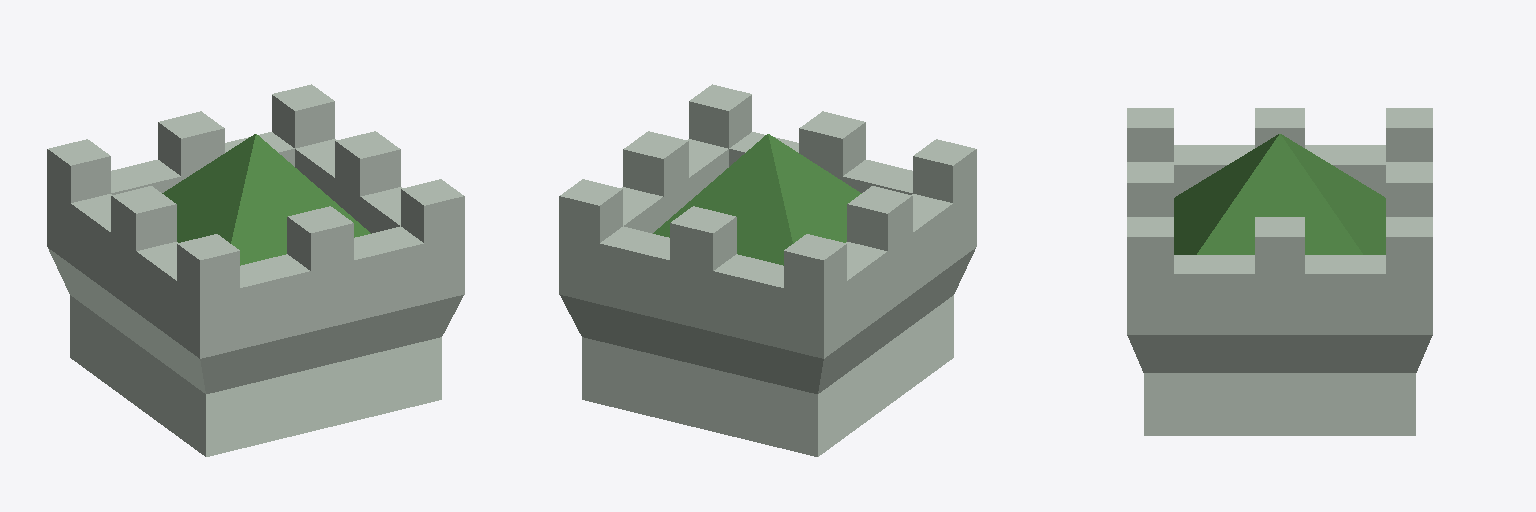
File: tile_028.obj
3 renders of one model, left to right at view 1: azimuth 30°, elevation 25°; view 2: azimuth 150°, elevation 25°; view 3: azimuth 270°, elevation 25°, orthographic.
Parts seen in each view (by area): view 1: tile_028, Group; view 2: tile_028, Group; view 3: tile_028, Group.
Part boxes in pixels (x1,y1,x2,y2): tile_028: (47, 84, 464, 456); Group: (162, 134, 370, 265); tile_028: (559, 84, 976, 456); Group: (653, 134, 861, 265); tile_028: (1127, 108, 1432, 435); Group: (1174, 134, 1385, 254).
Bounding box in the file's own units: 0.6609 × 0.586 × 0.6609.